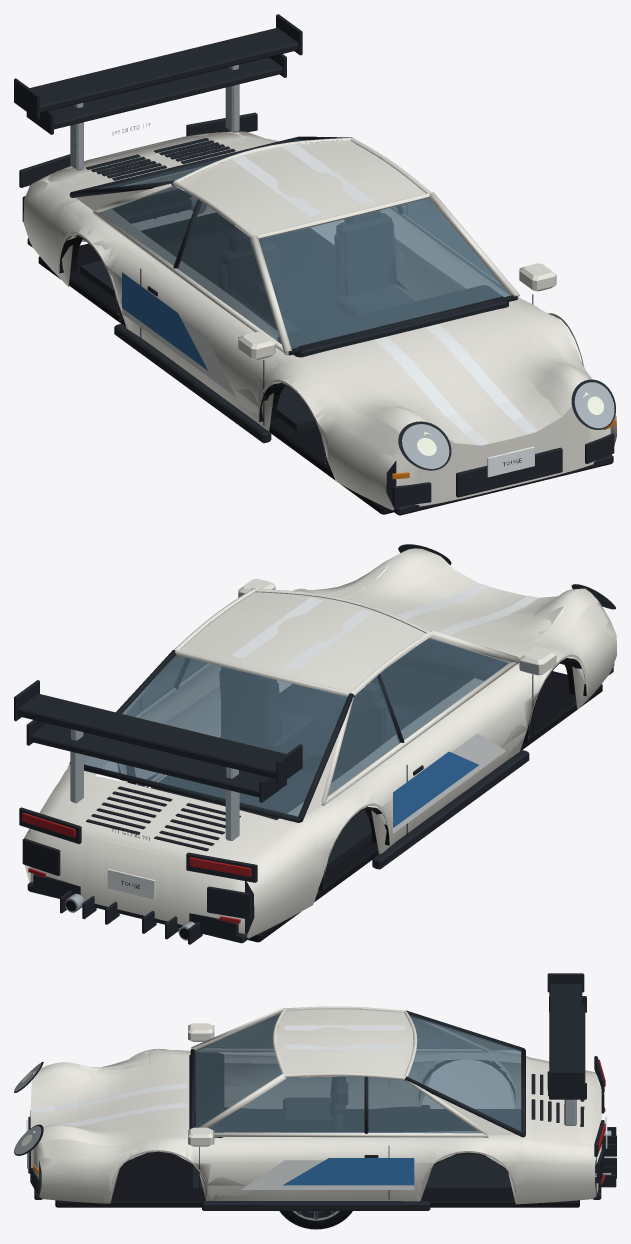
The picture shows the model from 3 angles, top to bottom: view 1: azimuth 30°, elevation 25°; view 2: azimuth 150°, elevation 25°; view 3: azimuth 270°, elevation 25°; orthographic projection. The views are drawn at different scales.
Visible parts, largest first — view 1: LOD0_body, LOD0_cabin, LOD0_glass, LOD1_glass, LOD1_body, LOD0_hood, LOD1_hood, LOD1_cabin, LOD1_spoiler_gt, LOD0_vinyl_apex, LOD0_spoiler_stock, LOD0_spoiler_gt (+3 smaller); view 2: LOD0_body, LOD0_cabin, LOD0_glass, LOD1_glass, LOD1_body, LOD0_hood, LOD1_spoiler_gt, LOD1_hood, LOD1_cabin, LOD1_spoiler_stock, LOD0_vinyl_apex, LOD0_spoiler_stock (+3 smaller); view 3: LOD0_body, LOD0_cabin, LOD0_glass, LOD1_glass, LOD1_body, LOD0_hood, LOD1_cabin, LOD0_vinyl_apex, LOD1_hood, LOD1_spoiler_gt, LOD0_vinyl_twin, LOD0_spoiler_gt (+4 smaller).
Part boxes in pixels (x1=…): LOD0_body: x1=19, y1=113, x2=616, y2=515; LOD0_cabin: x1=69, y1=136, x2=519, y2=430; LOD0_glass: x1=97, y1=140, x2=510, y2=348; LOD1_glass: x1=100, y1=140, x2=509, y2=348; LOD1_body: x1=19, y1=112, x2=616, y2=515; LOD0_hood: x1=293, y1=304, x2=589, y2=442; LOD1_hood: x1=336, y1=325, x2=575, y2=445; LOD1_cabin: x1=72, y1=138, x2=517, y2=430; LOD1_spoiler_gt: x1=14, y1=28, x2=302, y2=119; LOD0_vinyl_apex: x1=122, y1=247, x2=452, y2=396; LOD0_spoiler_stock: x1=26, y1=54, x2=286, y2=170; LOD0_spoiler_gt: x1=14, y1=14, x2=302, y2=119; LOD0_body: x1=19, y1=544, x2=615, y2=944; LOD0_cabin: x1=69, y1=587, x2=519, y2=887; LOD0_glass: x1=84, y1=637, x2=508, y2=816; LOD1_glass: x1=84, y1=638, x2=508, y2=815; LOD1_body: x1=20, y1=544, x2=616, y2=942; LOD0_hood: x1=323, y1=548, x2=598, y2=658; LOD1_spoiler_gt: x1=16, y1=680, x2=287, y2=778; LOD1_hood: x1=340, y1=550, x2=563, y2=644; LOD1_cabin: x1=70, y1=588, x2=517, y2=886; LOD1_spoiler_stock: x1=27, y1=723, x2=267, y2=840; LOD0_vinyl_apex: x1=202, y1=669, x2=505, y2=833; LOD0_spoiler_stock: x1=26, y1=720, x2=286, y2=840; LOD0_body: x1=14, y1=1023, x2=616, y2=1210; LOD0_cabin: x1=189, y1=1006, x2=525, y2=1192; LOD0_glass: x1=195, y1=1013, x2=521, y2=1132; LOD1_glass: x1=194, y1=1013, x2=521, y2=1133; LOD1_body: x1=15, y1=1023, x2=610, y2=1210; LOD0_hood: x1=30, y1=1055, x2=189, y2=1145; LOD1_cabin: x1=190, y1=1008, x2=525, y2=1192; LOD0_vinyl_apex: x1=241, y1=1158, x2=414, y2=1189; LOD1_hood: x1=30, y1=1063, x2=174, y2=1137; LOD1_spoiler_gt: x1=547, y1=975, x2=584, y2=1090; LOD0_vinyl_twin: x1=33, y1=1025, x2=405, y2=1125; LOD0_spoiler_gt: x1=547, y1=973, x2=584, y2=1090.
Size of the model in its own units: 2.14 by 1.77 by 4.8.
